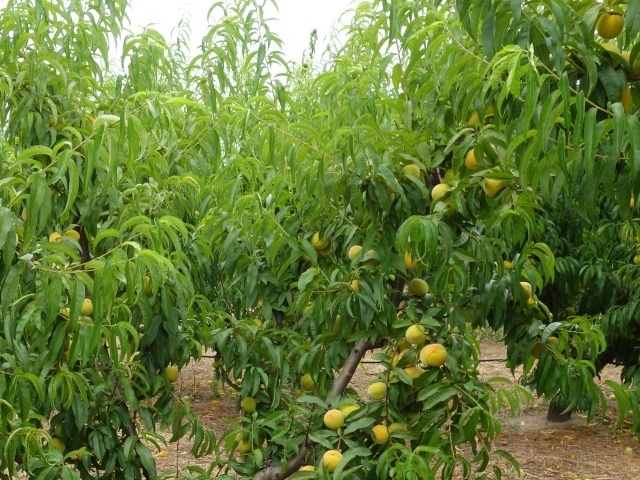peach: (596, 8, 627, 45), (416, 340, 450, 371), (317, 447, 347, 477), (476, 169, 508, 197), (321, 407, 349, 434), (427, 178, 454, 206), (401, 318, 427, 346), (368, 422, 393, 450), (366, 379, 391, 405), (461, 145, 486, 171), (405, 275, 429, 299), (400, 161, 424, 184), (308, 229, 332, 251), (516, 277, 536, 302), (160, 363, 183, 384), (345, 242, 366, 265), (237, 395, 260, 415), (59, 225, 83, 244), (44, 228, 65, 249), (77, 298, 99, 318), (234, 436, 255, 456), (297, 371, 316, 393), (48, 434, 67, 454), (51, 421, 69, 440)
